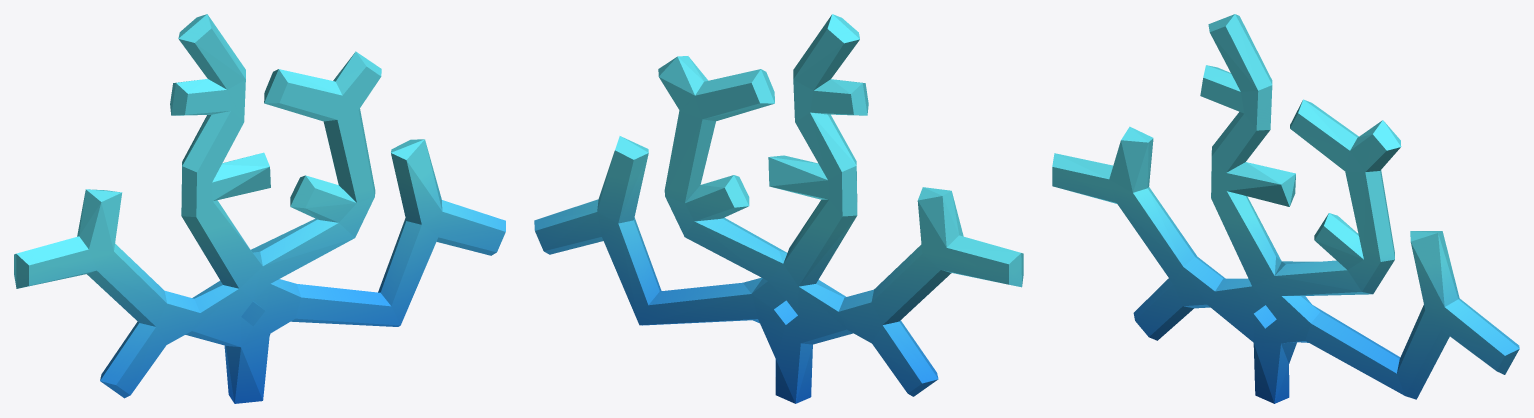
The model's file is SM_Coral_5.fbx.
3 views of the same model, side by side, from view 1: azimuth 30°, elevation 25°; view 2: azimuth 150°, elevation 25°; view 3: azimuth 330°, elevation 25° (orthographic). The views are drawn at different scales.
Parts seen in each view (by area): view 1: Coral_5; view 2: Coral_5; view 3: Coral_5.
Part boxes in pixels (bbox=[...]): Coral_5: bbox=[14, 14, 505, 403]; Coral_5: bbox=[534, 14, 1023, 403]; Coral_5: bbox=[1052, 14, 1519, 403].
Bounding box in the file's own units: 76.51 × 58.74 × 4.03.
